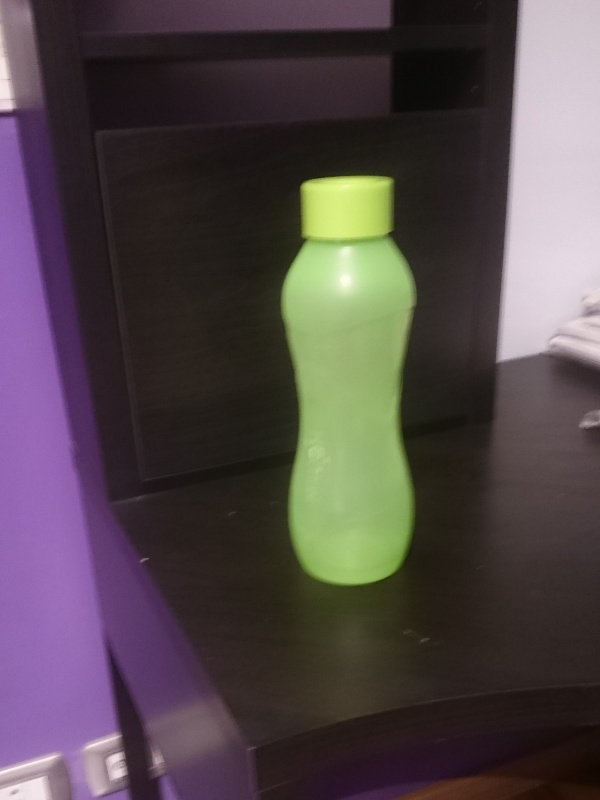my bottle: (282, 176, 418, 584)
